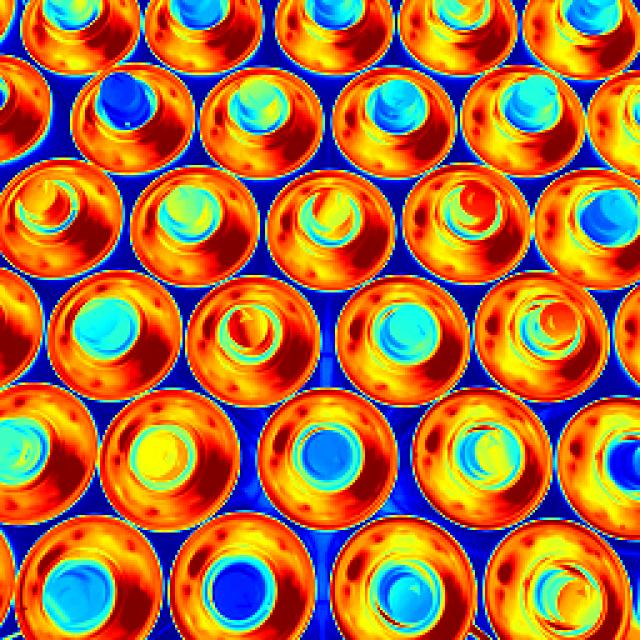Aerosol Cans: (307, 477, 474, 640), (248, 378, 402, 530), (120, 146, 272, 297), (482, 497, 632, 640), (404, 381, 544, 524), (153, 510, 307, 640), (336, 264, 473, 410), (189, 268, 323, 407), (109, 391, 248, 525), (258, 166, 397, 298), (55, 260, 191, 392), (450, 50, 574, 189), (64, 60, 208, 178), (475, 263, 598, 399), (0, 152, 134, 276), (206, 54, 323, 187), (406, 166, 528, 282), (337, 55, 445, 179)
